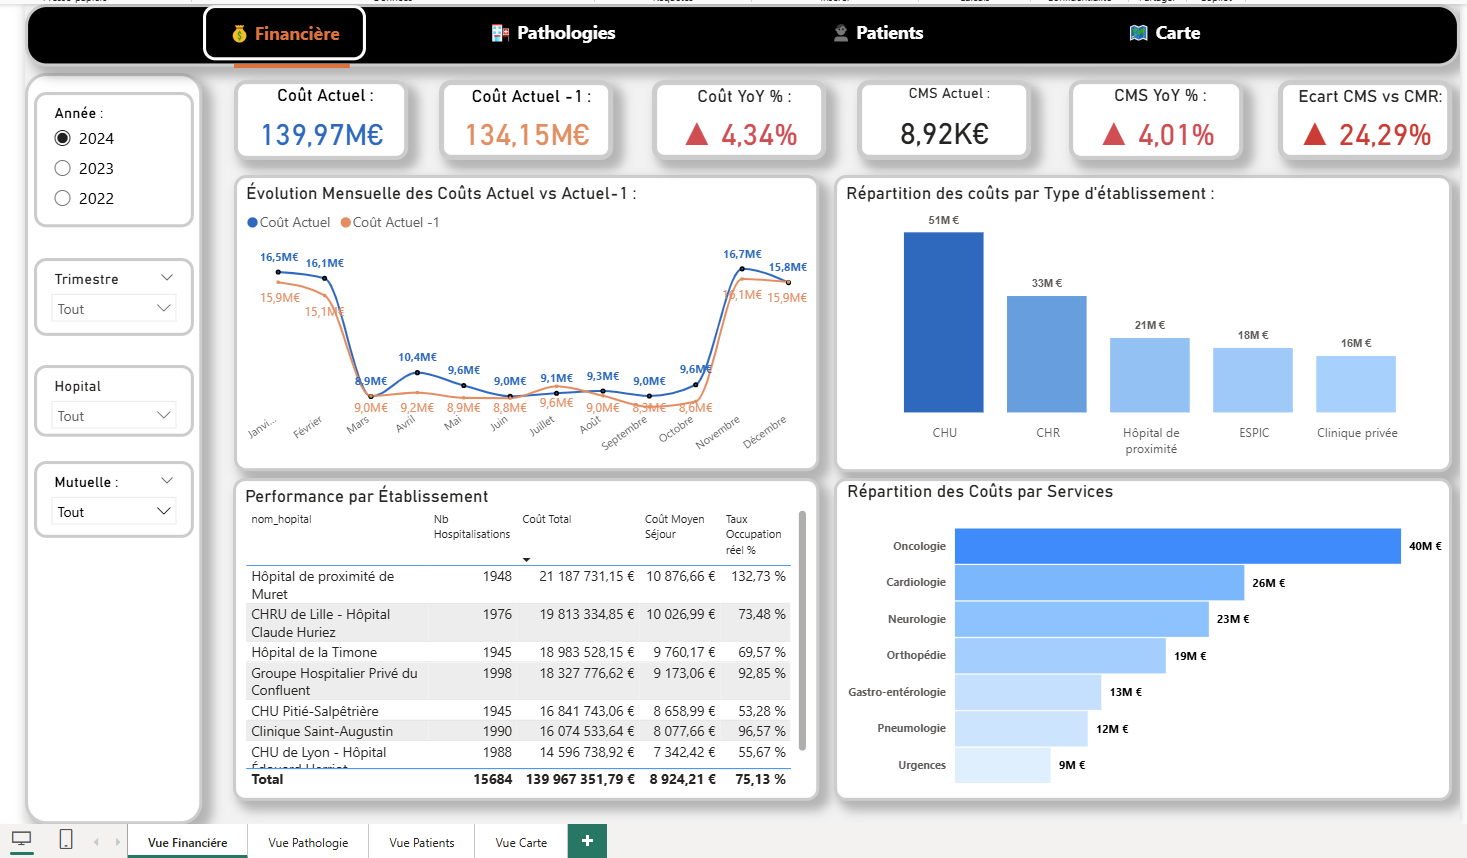

This screenshot's page, from the dashboard's own definition file:
{"tool":"powerbi","page":{"name":"Vue Financiére","canvas":[1400,800],"ordinal":0},"visuals":[{"type":"shape","box":[0,67.4,173.3,732.6],"z":0},{"type":"slicer","fields":{"Values":["dim_temps.annee"]},"box":[9,86,156,132],"z":1000},{"type":"textbox","box":[0,0,1400,61],"z":2000},{"type":"slicer","fields":{"Values":["dim_patients.mutuelle"]},"box":[9,446,156,75],"z":3000},{"type":"card","title":"Coût Actuel : ","fields":{"Values":["Mesures.Coût Total"]},"box":[204.3,73.8,170.1,78.1],"z":4000},{"type":"card","title":"Coût Actuel -1 :","fields":{"Values":["Mesures.Coût Année Précédente"]},"box":[404.3,73.8,170.1,78.1],"z":5000},{"type":"card","title":"CMS Actuel : ","fields":{"Values":["Mesures.Coût Moyen Séjour"]},"box":[811.8,73.8,170.1,78.1],"z":6000},{"type":"lineChart","title":"Évolution Mensuelle des Coûts  Actuel vs Actuel-1 : ","fields":{"Y":["Mesures.Coût Total","Mesures.Coût Année Précédente"],"Category":["dim_temps.mois_libelle"]},"box":[204.3,166.8,571.1,288.8],"z":7000},{"type":"tableEx","title":"Performance par Établissement","fields":{"Values":["dim_hopital.nom_hopital","Mesures.Nb Hospitalisations","Mesures.Coût Total","Mesures.Coût Moyen Séjour","Mesures.Taux Occupation réel %"]},"box":[202.6,462.3,571.8,315.2],"z":8000},{"type":"clusteredColumnChart","title":"Répartition des coûts par Type d''établissement :","fields":{"Category":["dim_hopital.type_etablissement"],"Y":["Mesures.Coût Total"]},"box":[789.3,166.8,603.2,289.8],"z":9000},{"type":"barChart","title":"  Répartition des Coûts par Services","fields":{"Category":["dim_pathologies.famille_pathologie"],"Y":["Mesures.Coût Total"]},"box":[789.5,462.3,603.3,315.2],"z":10000},{"type":"actionButton","box":[173.7,1,159,53.7],"z":11000},{"type":"actionButton","box":[1049.8,0,122,52.7],"z":12000},{"type":"actionButton","box":[744.4,0,173.7,52.7],"z":13000},{"type":"shape","box":[203.9,53.7,113.2,13.7],"z":14000},{"type":"card","title":"Coût YoY % :","fields":{"Values":["Mesures.Évolution YoY %"]},"box":[611.8,73.8,170.1,78.1],"z":15000},{"type":"card","title":"Ecart CMS vs CMR: ","fields":{"Values":["Mesures.Écart Coût vs Référence"]},"box":[1222.5,73.8,170.1,78.1],"z":16000},{"type":"card","title":"CMS YoY % :","fields":{"Values":["Mesures.Évolution Coût Moyen YoY %"]},"box":[1018.2,73.8,170.1,78.1],"z":17000},{"type":"slicer","fields":{"Values":["dim_hopital.nom_hopital"]},"box":[9,352,156,70],"z":18000},{"type":"slicer","fields":{"Values":["dim_temps.trimestre_libelle"]},"box":[9,248,156,76],"z":19000},{"type":"actionButton","box":[437.1,0,154.1,52.7],"z":20000}]}

Visuals, with their boxes on the page's 1400x800 design canvas (x1, y1, x2, y2). These are canvas units, not pixel positions in the 1467x858 screenshot, which may show the page scaled, cropped or inside an application window:
shape: box(0, 67, 173, 800)
slicer - dim_temps.annee: box(9, 86, 165, 218)
textbox: box(0, 0, 1400, 61)
slicer - dim_patients.mutuelle: box(9, 446, 165, 521)
"Coût Actuel : " card: box(204, 74, 374, 152)
"Coût Actuel -1 :" card: box(404, 74, 574, 152)
"CMS Actuel : " card: box(812, 74, 982, 152)
"Évolution Mensuelle des Coûts  Actuel vs Actuel-1 : " lineChart: box(204, 167, 775, 456)
"Performance par Établissement" tableEx: box(203, 462, 774, 778)
"Répartition des coûts par Type d''établissement :" clusteredColumnChart: box(789, 167, 1392, 457)
"  Répartition des Coûts par Services" barChart: box(790, 462, 1393, 778)
actionButton: box(174, 1, 333, 55)
actionButton: box(1050, 0, 1172, 53)
actionButton: box(744, 0, 918, 53)
shape: box(204, 54, 317, 67)
"Coût YoY % :" card: box(612, 74, 782, 152)
"Ecart CMS vs CMR: " card: box(1222, 74, 1393, 152)
"CMS YoY % :" card: box(1018, 74, 1188, 152)
slicer - dim_hopital.nom_hopital: box(9, 352, 165, 422)
slicer - dim_temps.trimestre_libelle: box(9, 248, 165, 324)
actionButton: box(437, 0, 591, 53)
